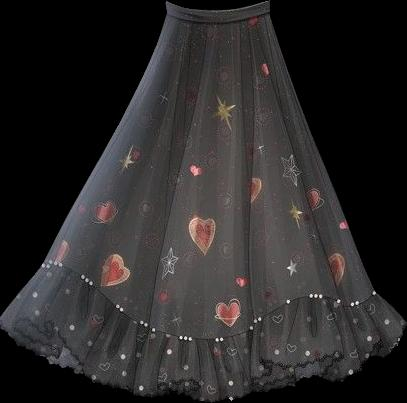Hemline: (0, 318, 406, 402)
Waistline: (42, 260, 377, 341), (165, 9, 269, 27), (165, 0, 267, 14)
